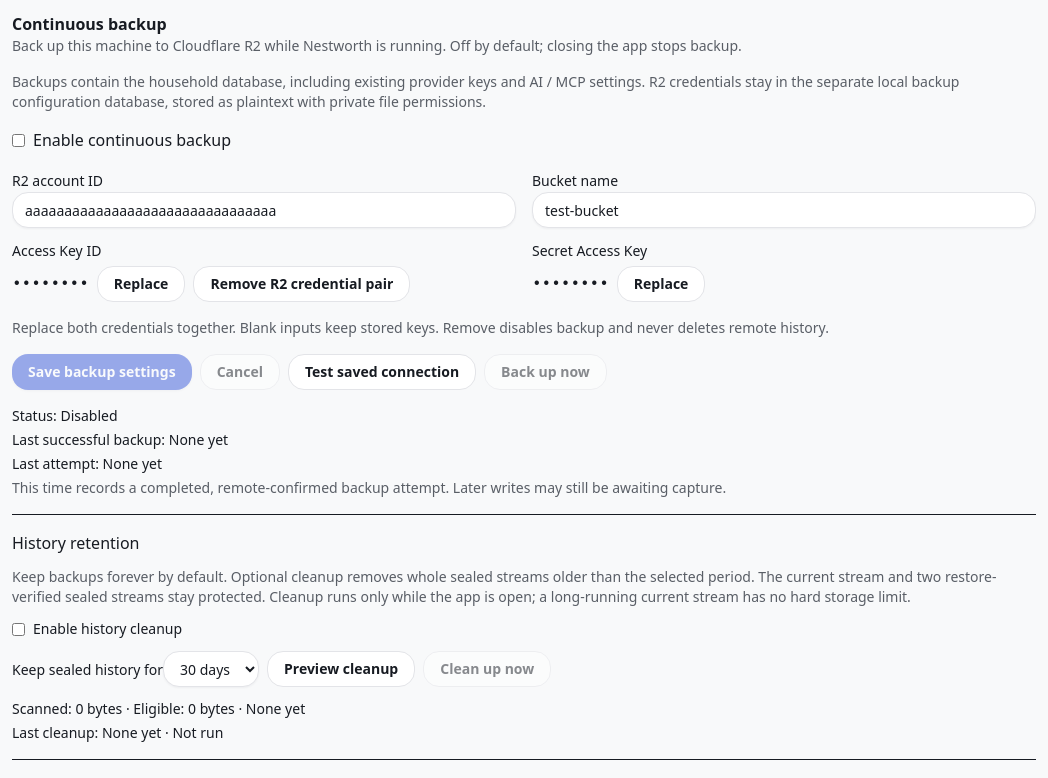
Test case: continuous backup settings › keeps stored credentials on a nonsecret save and removes only the explicit pair
The image size is (1048, 778).
Replace the text in the field labelled "Bucket name" with "new-bucket" at (784, 210), box [532, 192, 1036, 228]
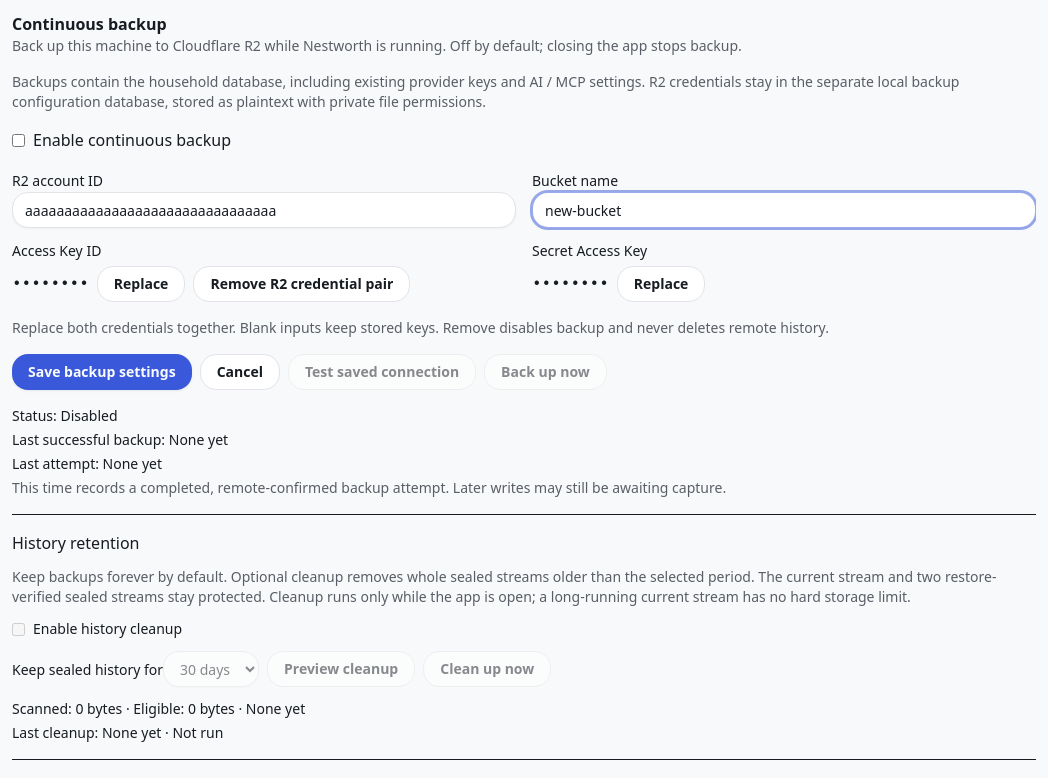
Click the button "Save backup settings" at (102, 372), box [12, 354, 192, 390]
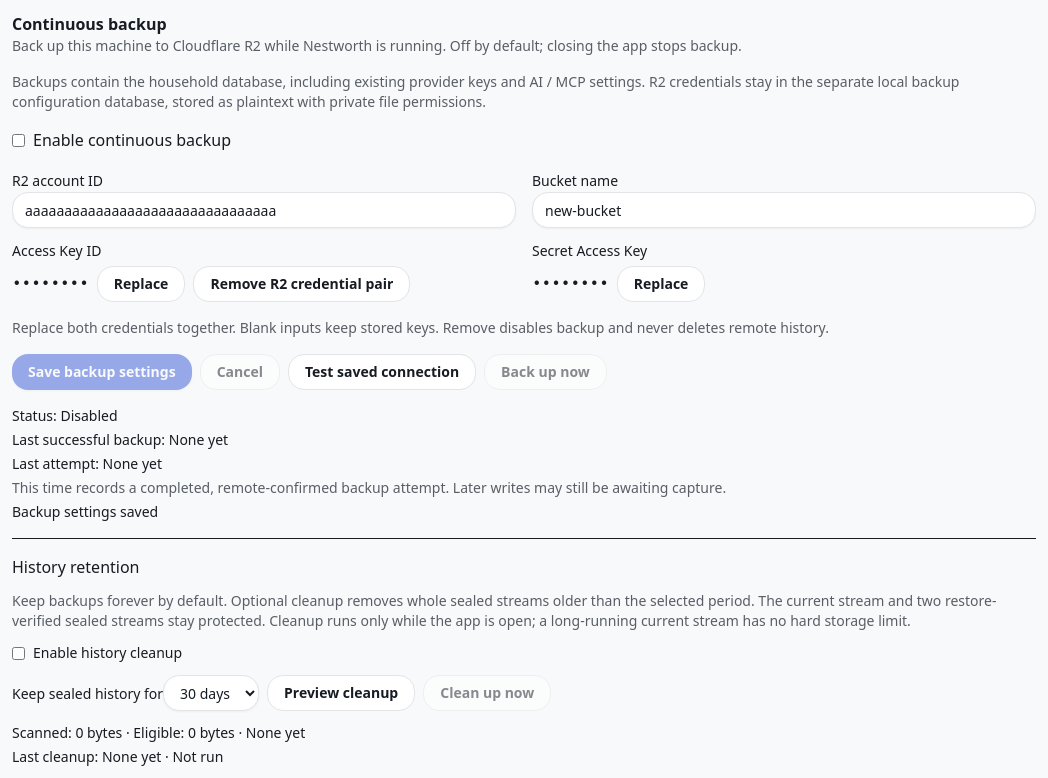
Click the button "Remove R2 credential pair" at (302, 284), box [193, 266, 410, 302]
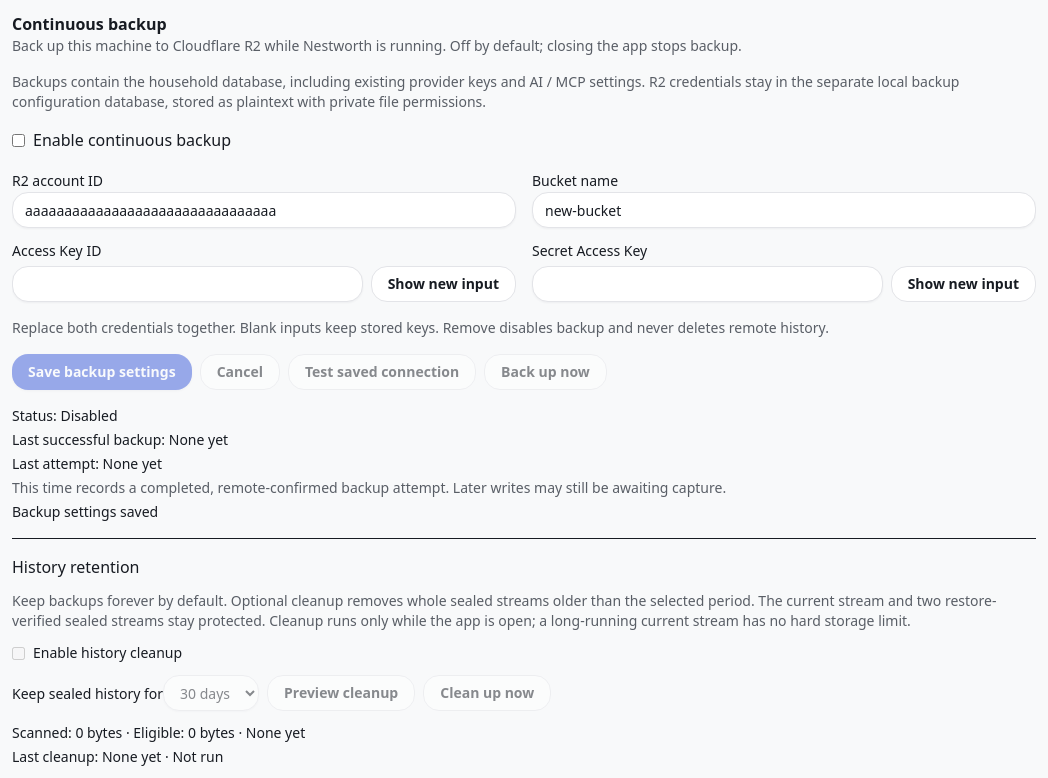
Expected: the text "••••••••" is gone
